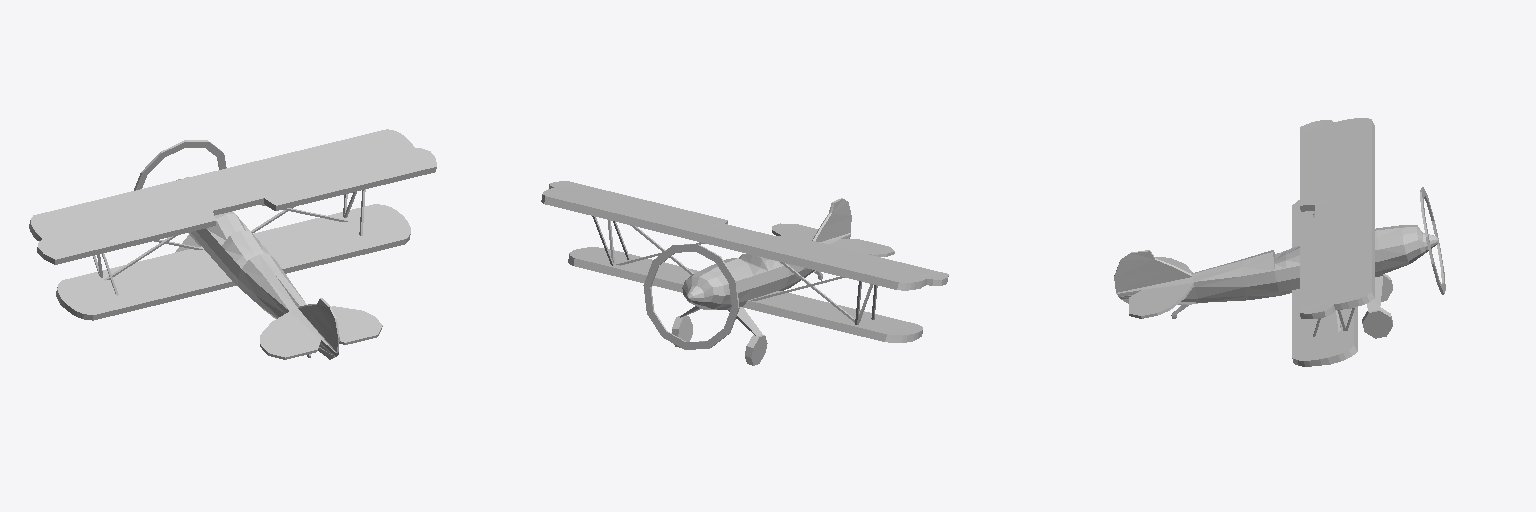
Rendered from TVL4.obj.
3 renders of one model, left to right at view 1: azimuth 30°, elevation 25°; view 2: azimuth 150°, elevation 25°; view 3: azimuth 270°, elevation 25°, orthographic.
Parts seen in each view (by area): view 1: TVL4_Circle.007; view 2: TVL4_Circle.007; view 3: TVL4_Circle.007.
Boxes of the visible parts, x1,y1,x2,y2 form: TVL4_Circle.007: [29, 129, 436, 359]; TVL4_Circle.007: [541, 181, 948, 365]; TVL4_Circle.007: [1114, 118, 1445, 366].
Size of the model in its own units: 10.1 by 3.13 by 7.39.